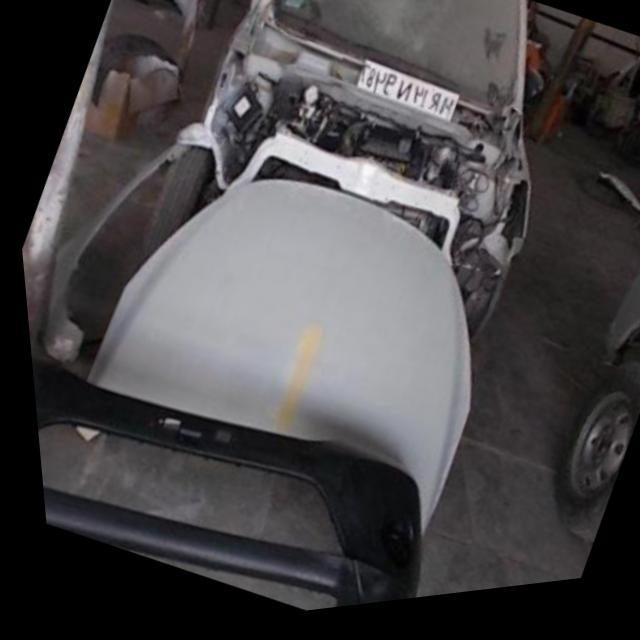no part: (205, 98, 515, 325)
